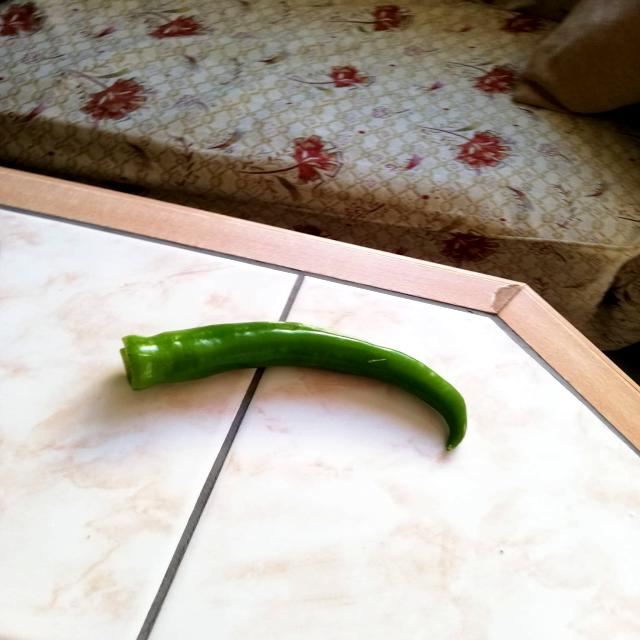green pepper: (117, 317, 472, 454)
